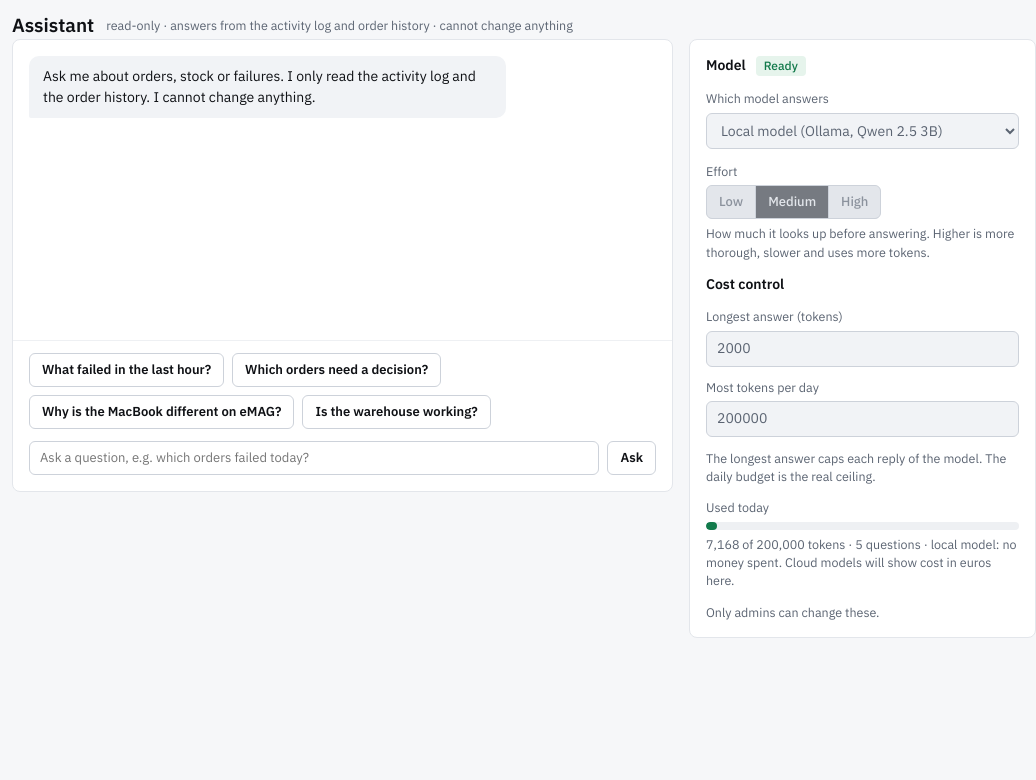
shows why the assistant could not answer and keeps the question
Expected: the text "Ready" is shown, [756,56,806,76]
Step 1. Type "Which orders need a decision?" into the field labelled "question" → [314, 458], box [29,441,600,475]
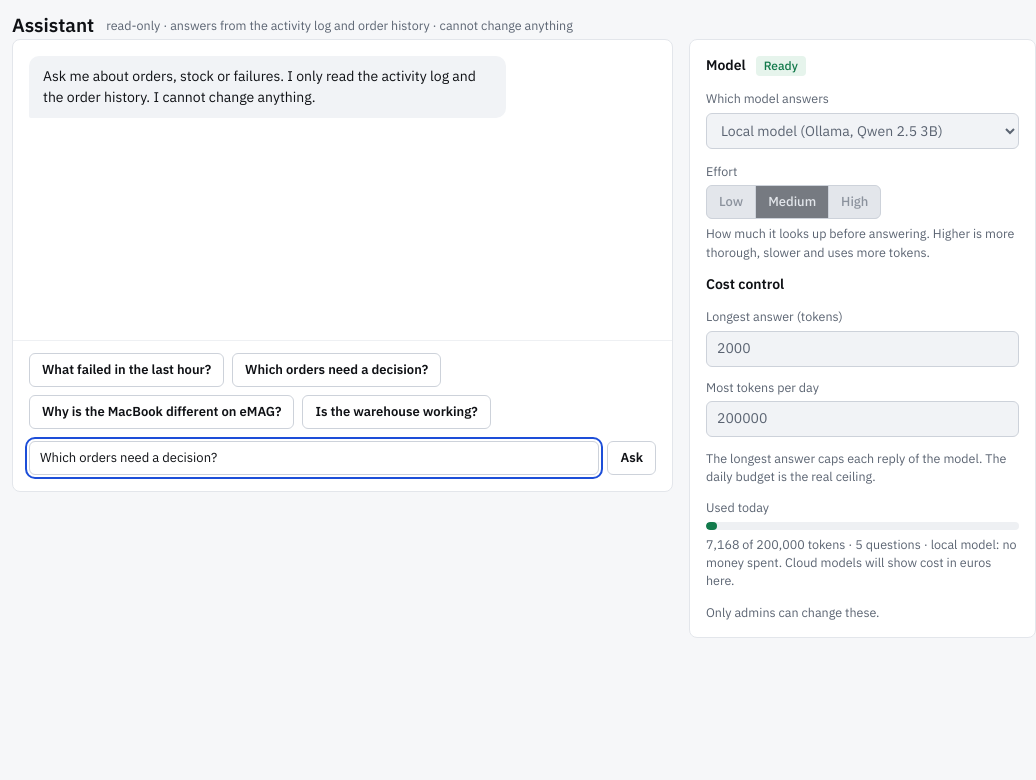
Step 2. Click the button "Ask" → [632, 458], box [608,441,656,475]
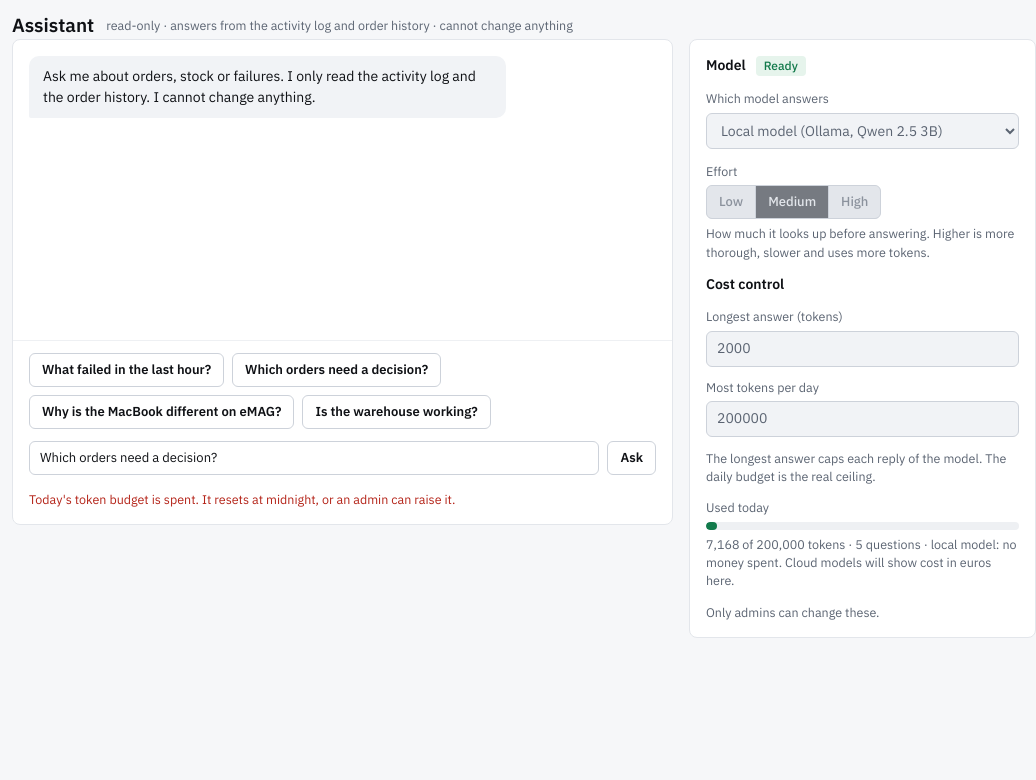
Expected: the message reads "Today's token budget is spent. It resets at midnight, or an admin can raise it.", [29,491,455,507]
